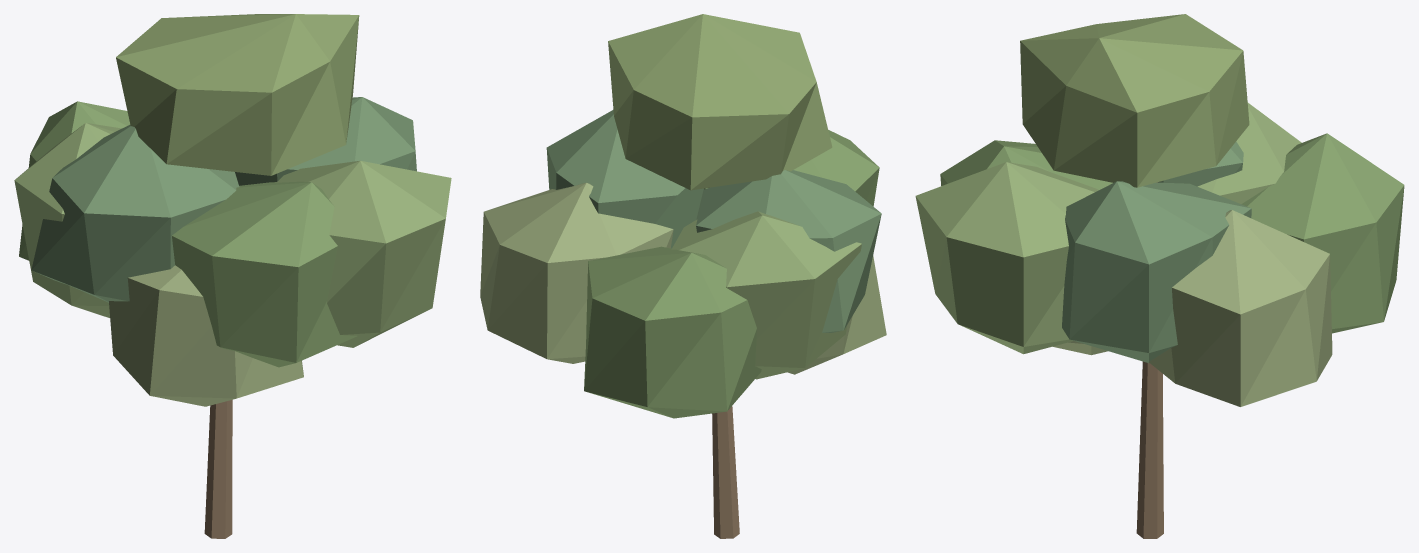
3 renders of one model, left to right at view 1: azimuth 30°, elevation 25°; view 2: azimuth 150°, elevation 25°; view 3: azimuth 270°, elevation 25°, orthographic. The views are drawn at different scales.
Size of the model in its own units: 8.16 by 10.94 by 9.31.
